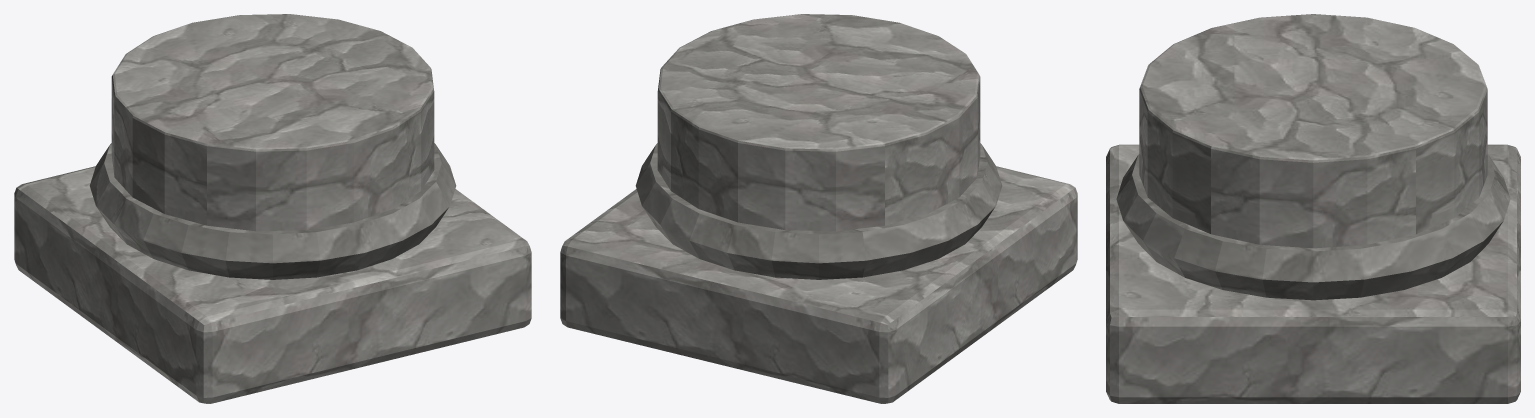
The model's file is column_base__ancient_brick.glb.
The picture shows the model from 3 angles, left to right: view 1: azimuth 30°, elevation 25°; view 2: azimuth 150°, elevation 25°; view 3: azimuth 270°, elevation 25°; orthographic projection. The views are drawn at different scales.
Parts seen in each view (by area): view 1: model; view 2: model; view 3: model.
Part boxes in pixels (left/top/right/bottom): model: left=14, top=14, right=531, bottom=403; model: left=560, top=14, right=1077, bottom=403; model: left=1106, top=14, right=1520, bottom=403.
Size of the model in its own units: 0.8 by 0.5 by 0.8.
Materials: 2 (2 with a texture image).
